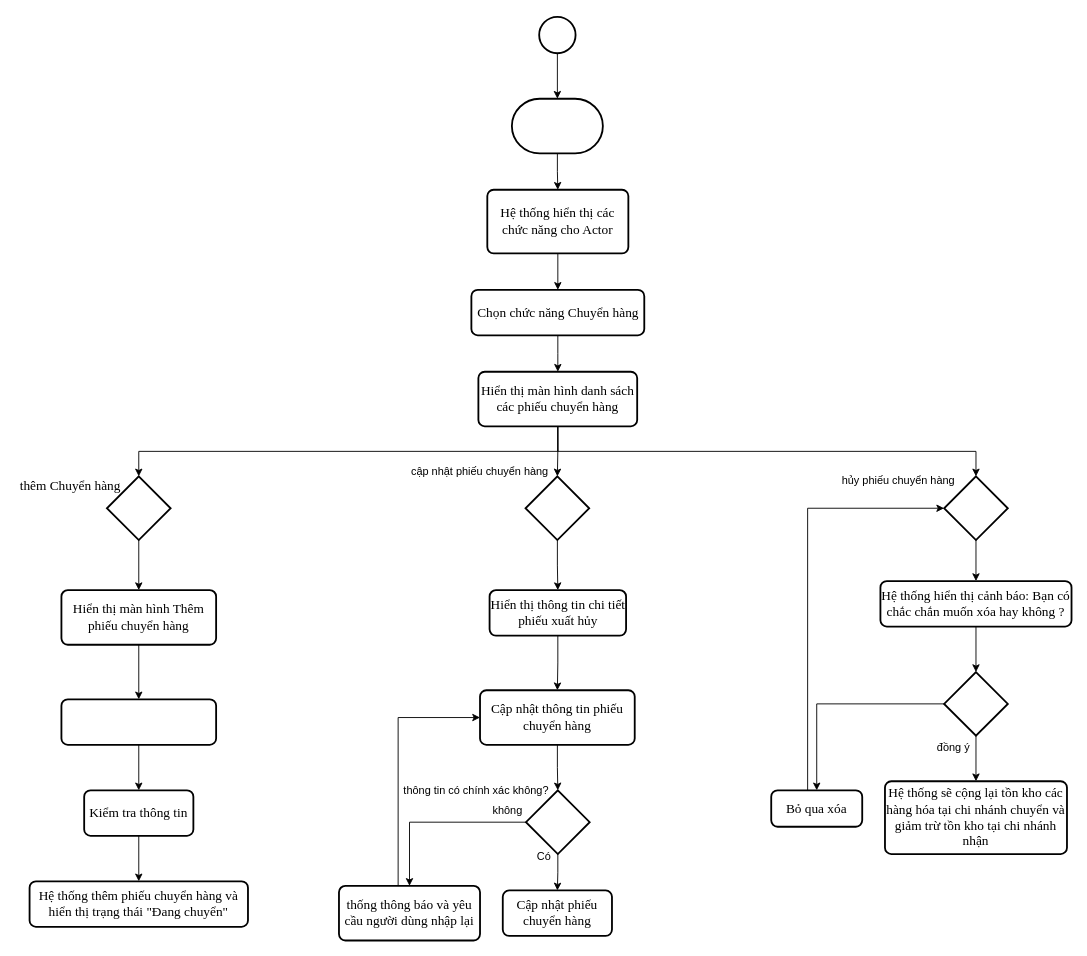
Image size: 1087x956. Some labels were removed from this diagram. The shapes that lost their labels are listed below. From the top down, each one's centre as x and y in pixels, then its label:
At (x=557, y=125): "đăng nhập".
At (x=138, y=721): "Nhập thông tin,nhấn hoàn tất".
